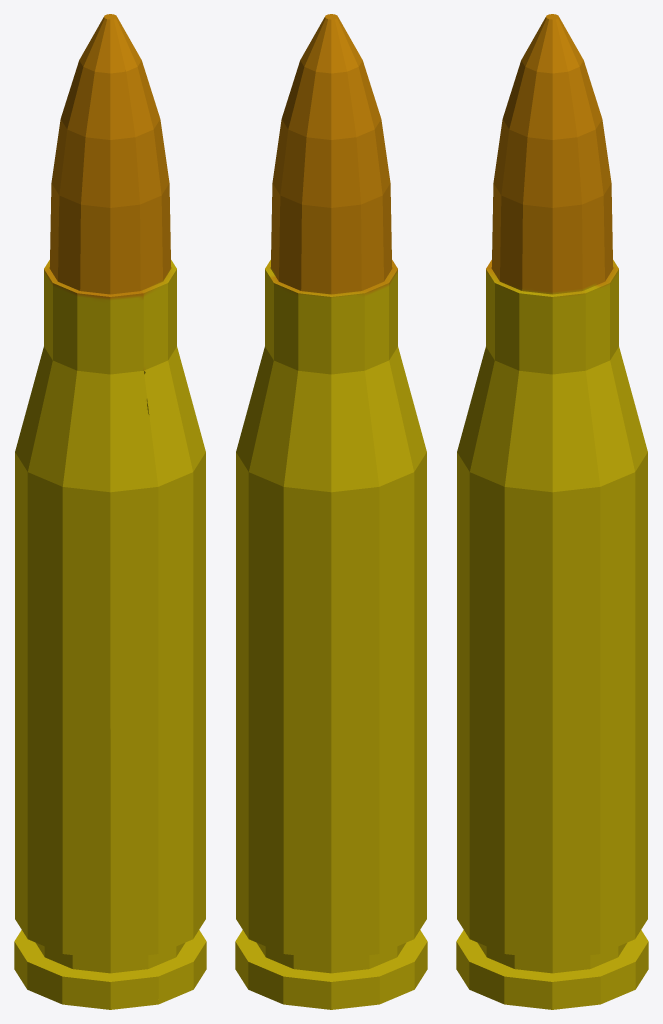
File: Bala2.fbx
3 renders of one model, left to right at view 1: azimuth 30°, elevation 25°; view 2: azimuth 150°, elevation 25°; view 3: azimuth 270°, elevation 25°, orthographic.
Parts seen in each view (by area): view 1: Municao; view 2: Municao; view 3: Municao.
Part boxes in pixels (box(x1,y1,x2,y2)): Municao: box(14, 14, 206, 1009); Municao: box(235, 14, 427, 1009); Municao: box(456, 14, 648, 1009).
Size of the model in its own units: 1.72 by 9.38 by 1.72.
1 material, 1 textured.
